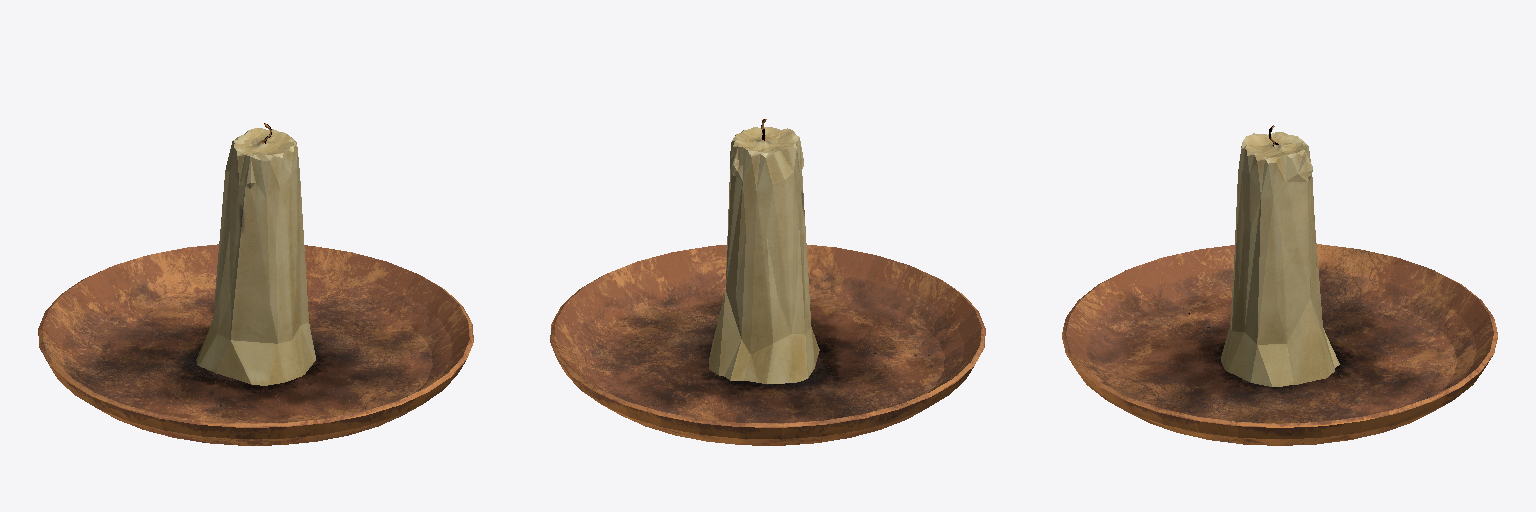
3 views of the same model, side by side, from view 1: azimuth 30°, elevation 25°; view 2: azimuth 150°, elevation 25°; view 3: azimuth 270°, elevation 25° (orthographic).
Visible parts, largest first — view 1: candlestick_meshId2_name, candle.001_meshId1_name; view 2: candlestick_meshId2_name, candle.001_meshId1_name; view 3: candlestick_meshId2_name, candle.001_meshId1_name.
Part boxes in pixels (x1,y1,x2,y2): candlestick_meshId2_name: (38,244,473,445); candle.001_meshId1_name: (196,128,315,385); candlestick_meshId2_name: (550,245,985,445); candle.001_meshId1_name: (709,127,819,383); candlestick_meshId2_name: (1062,244,1497,445); candle.001_meshId1_name: (1221,132,1339,386).
Bounding box in the file's own units: 91.52 × 61.58 × 91.52.
Materials: 2 (2 with a texture image).